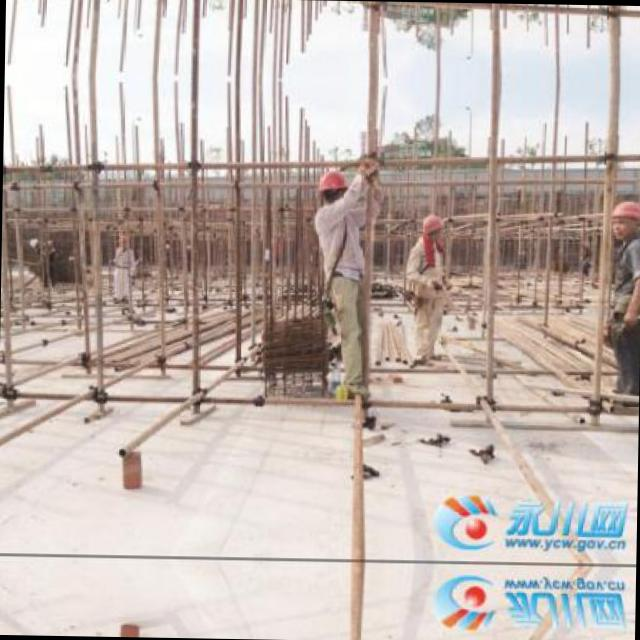helmet: (310, 167, 350, 206), (607, 196, 640, 242), (418, 210, 448, 240)
